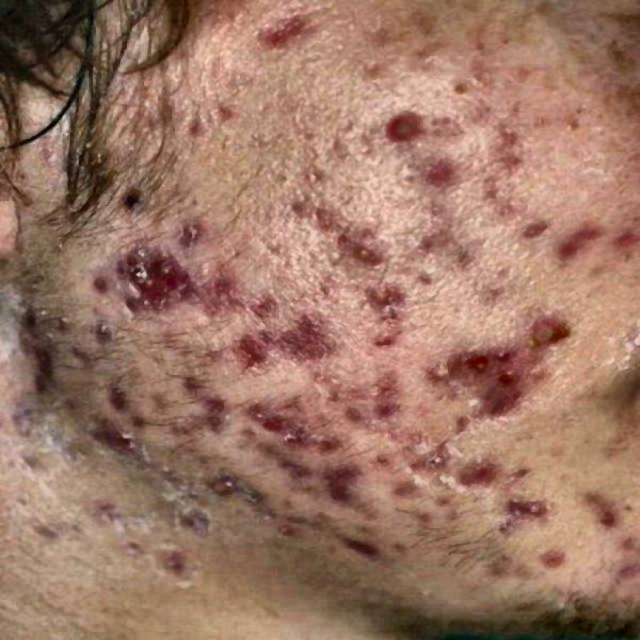nodule: (525, 310, 597, 371), (322, 520, 384, 571), (271, 312, 327, 364), (532, 536, 594, 578), (556, 217, 605, 269), (505, 197, 558, 245), (503, 493, 560, 532), (462, 344, 514, 385), (160, 213, 206, 259), (580, 490, 632, 529), (128, 88, 180, 126), (385, 114, 433, 153), (476, 178, 528, 214), (409, 145, 449, 191), (302, 462, 356, 496), (242, 19, 291, 56), (471, 388, 516, 427), (93, 316, 136, 356), (38, 308, 80, 348), (346, 398, 396, 431), (488, 150, 538, 182), (207, 263, 247, 300), (411, 355, 452, 391), (598, 211, 630, 257), (238, 326, 276, 364), (273, 413, 315, 447), (229, 393, 273, 425), (342, 236, 392, 264), (291, 161, 344, 187), (216, 453, 255, 488), (95, 381, 134, 415), (367, 324, 400, 364), (307, 191, 336, 235), (484, 121, 531, 147), (183, 393, 220, 425), (409, 264, 451, 292), (93, 264, 127, 298), (356, 378, 406, 401), (354, 52, 392, 82), (488, 553, 522, 586), (447, 240, 487, 268), (476, 276, 517, 303), (446, 410, 487, 437), (310, 431, 352, 457), (434, 472, 494, 490), (133, 280, 170, 308), (26, 344, 54, 381), (270, 511, 303, 542), (163, 362, 201, 388), (279, 388, 320, 412), (133, 241, 160, 277), (418, 219, 445, 252), (382, 469, 414, 496), (208, 99, 244, 122), (611, 555, 639, 583), (269, 445, 300, 470), (184, 115, 218, 137), (380, 284, 402, 312), (253, 288, 274, 316), (411, 504, 437, 526), (108, 431, 120, 443)
